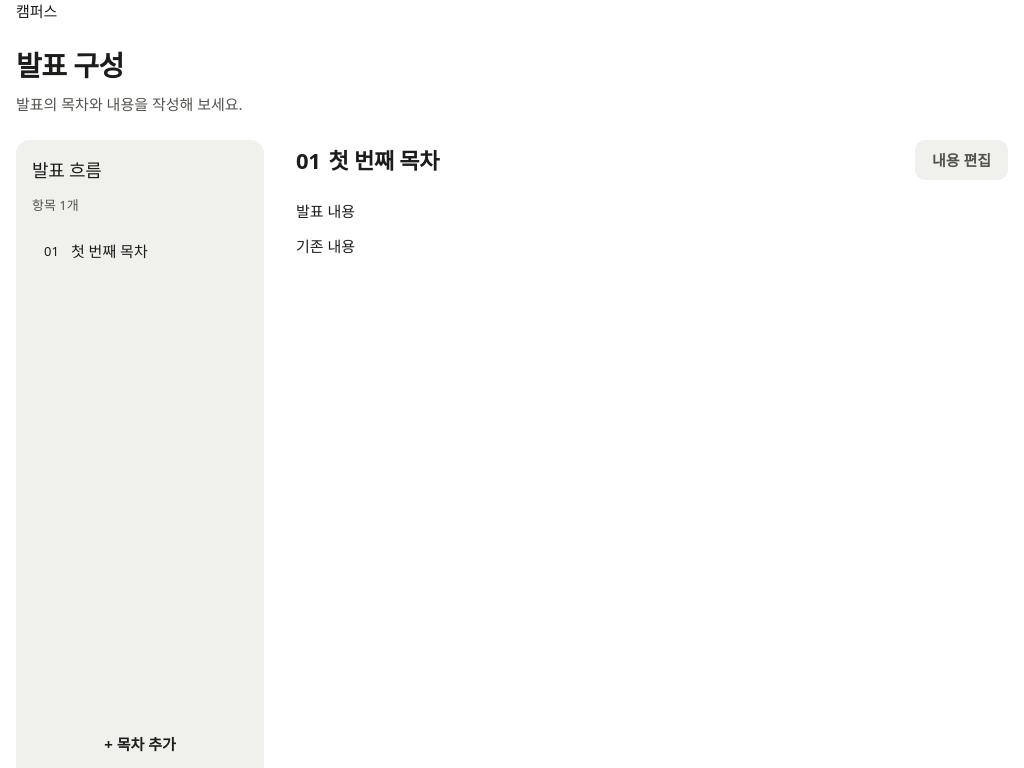
응답을 잃은 저장 뒤 원래 제목으로 되돌려도 이전 요청을 확인하고 다시 저장할 수 있다
Click the button "내용 편집" at coordinates (961, 160), box [915,140,1008,180]
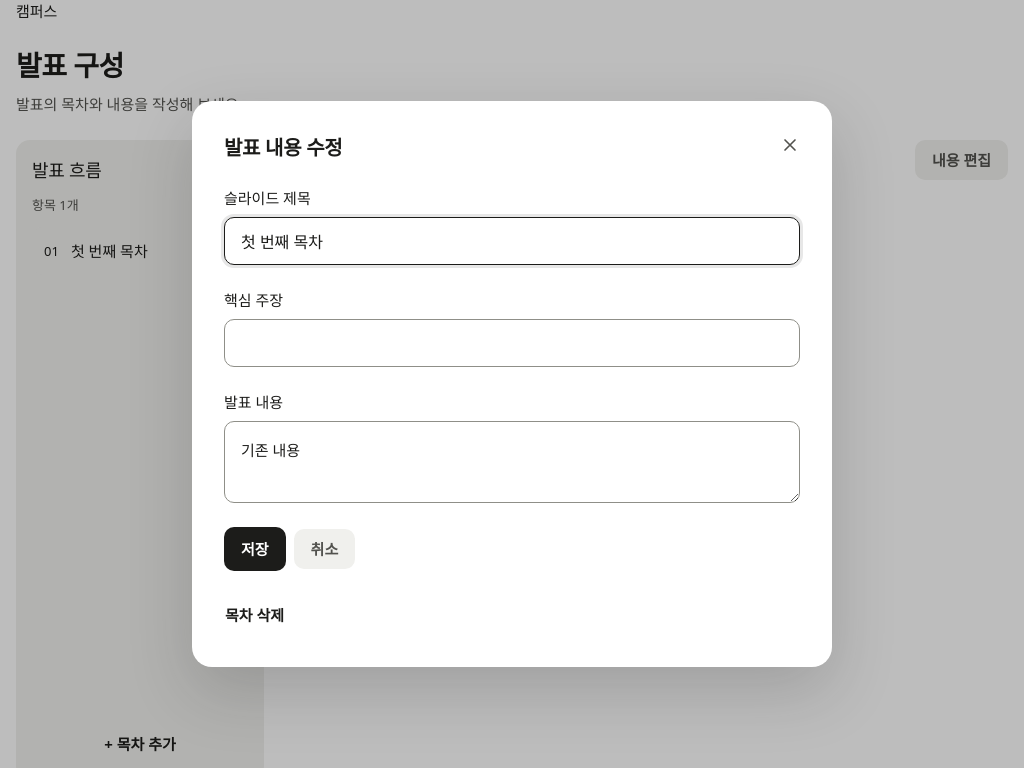
Replace the text in the field labelled "슬라이드 제목" with "처음 저장한 목차" at coordinates (512, 241), box [224,217,800,265]
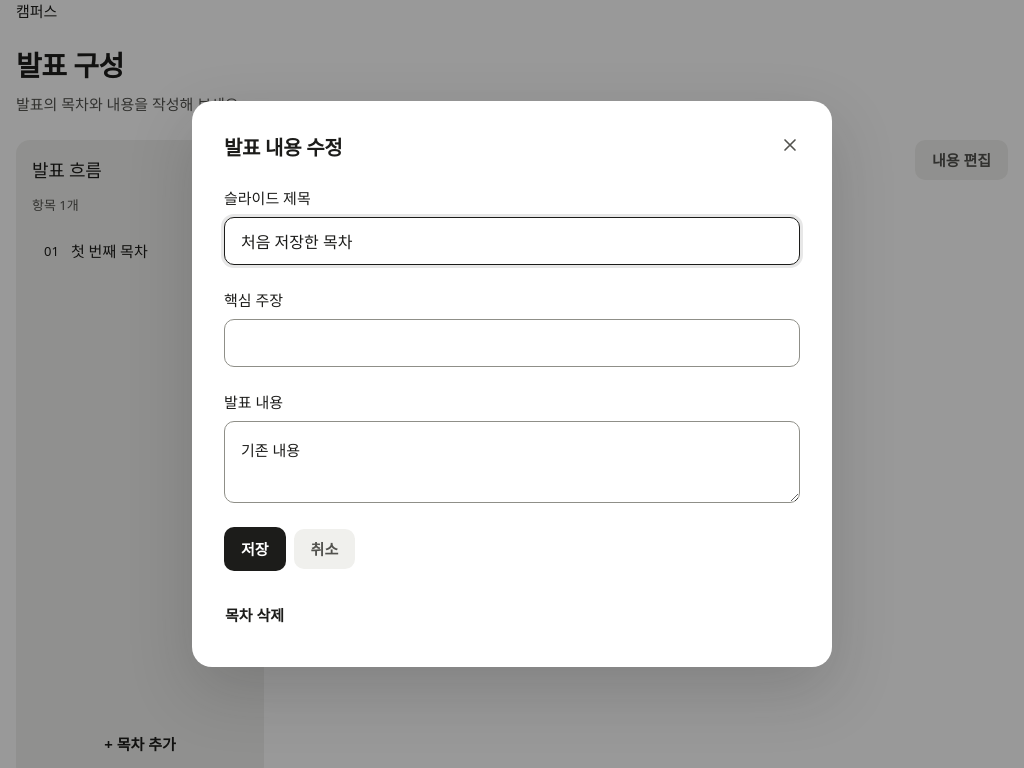
Click the button "저장" at coordinates (255, 549), box [224,527,286,571]
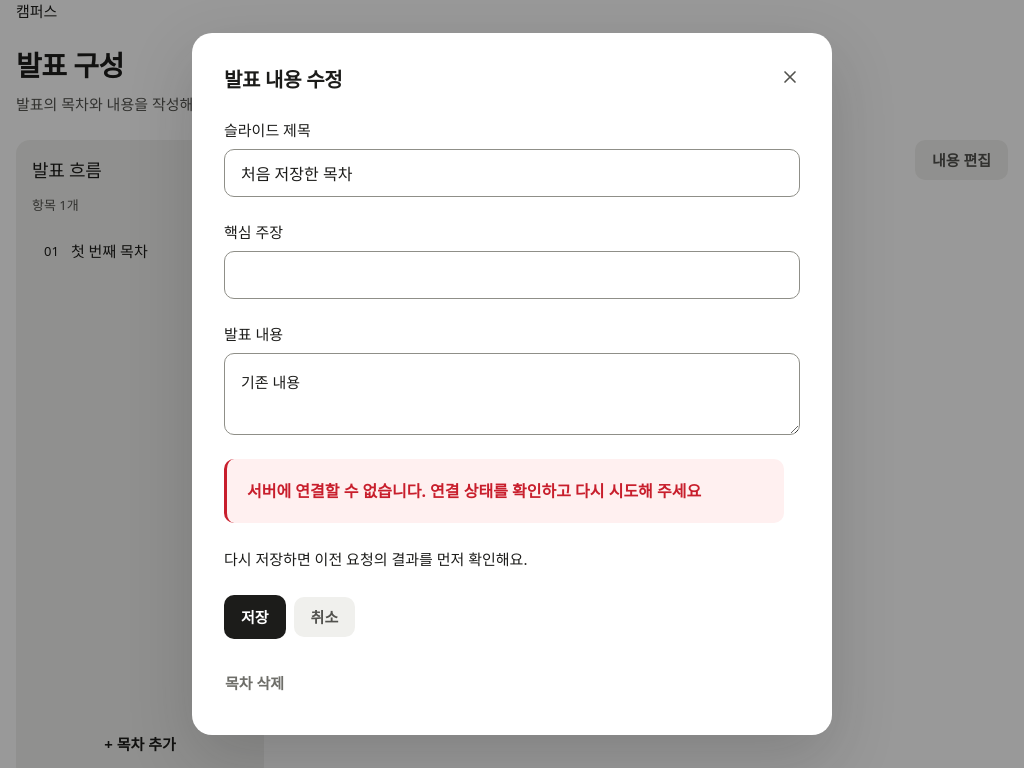
Expected: the text "서버에 연결할 수 없습니다. 연결 상태를 확인하고 다시 시도해 주세요" is shown, [247,479,701,503]
Replace the text in the field labelled "슬라이드 제목" with "첫 번째 목차" at coordinates (512, 173), box [224,149,800,197]
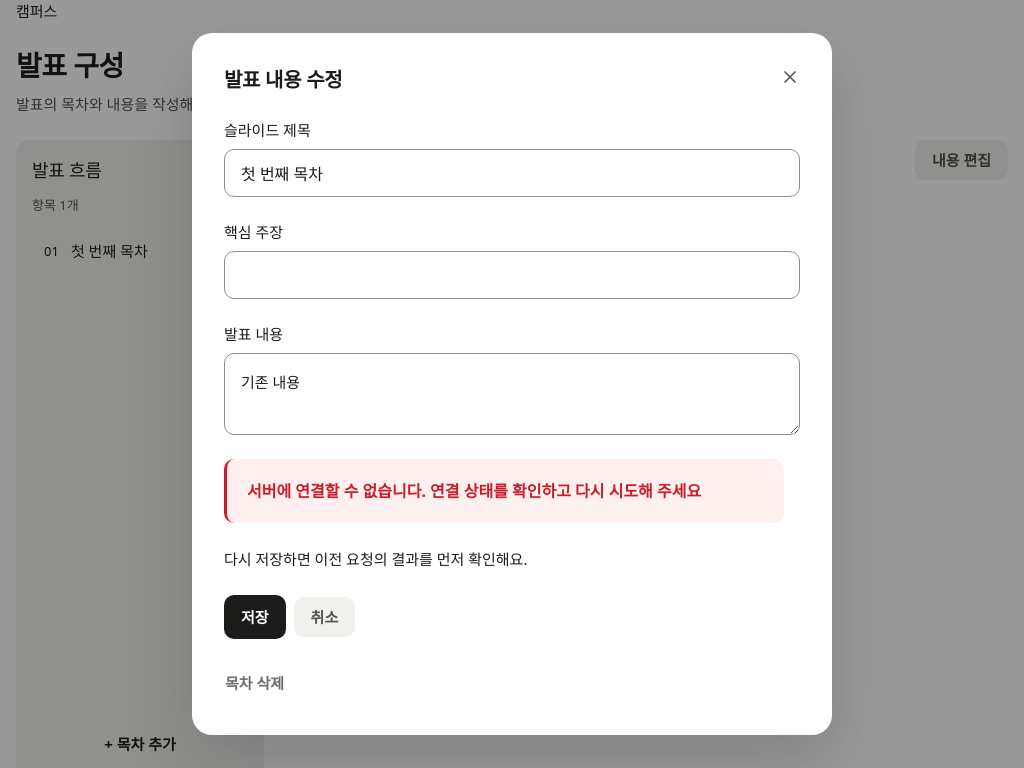
Click the button "저장" at coordinates (255, 617), box [224,595,286,639]
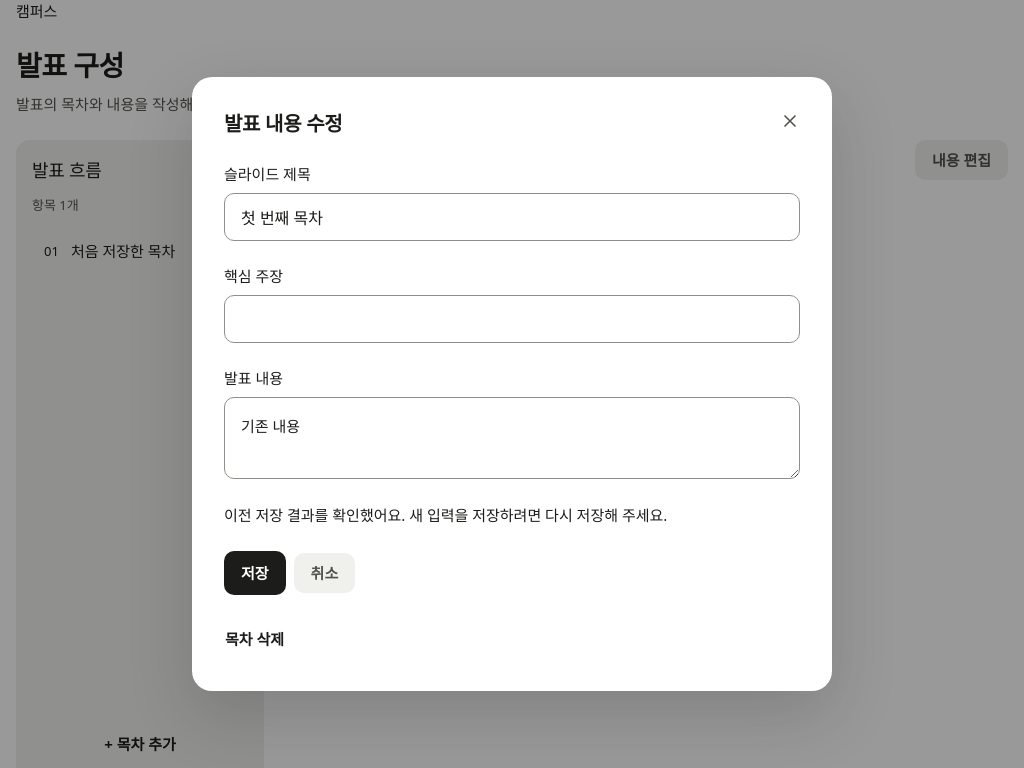
Expected: the text "이전 저장 결과를 확인했어요. 새 입력을 저장하려면 다시 저장해 주세요." is shown, [224,505,667,525]
Click the button "저장" at coordinates (255, 573), box [224,551,286,595]
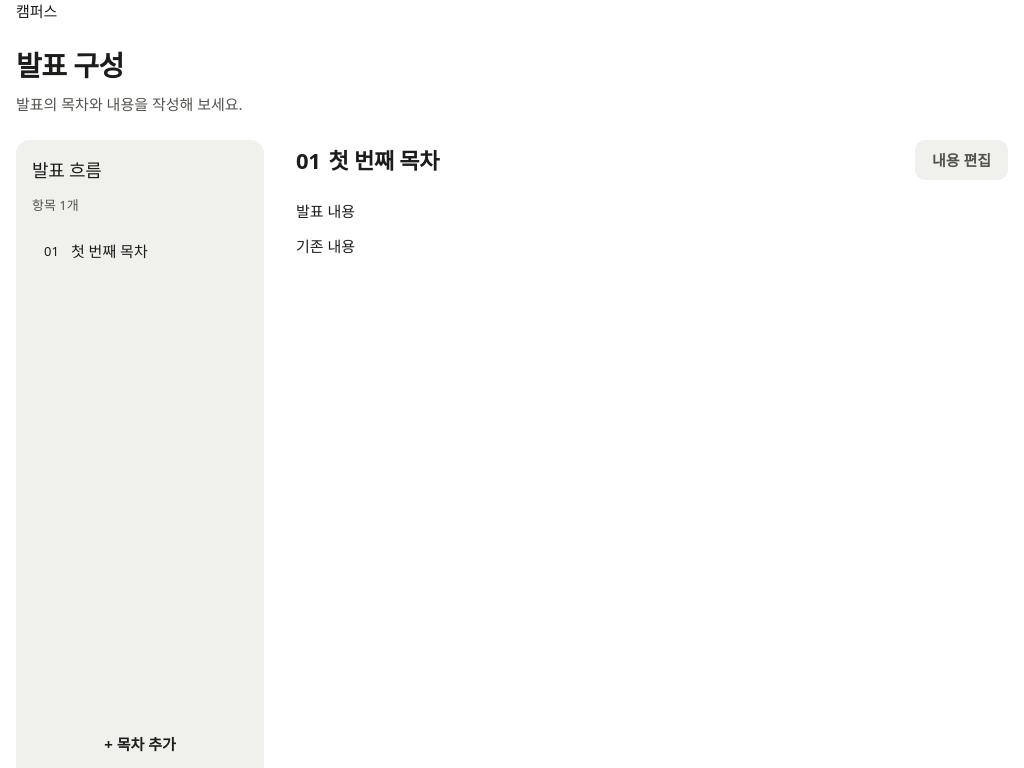
Expected: the heading "01첫 번째 목차" is shown, [296,145,439,175]
